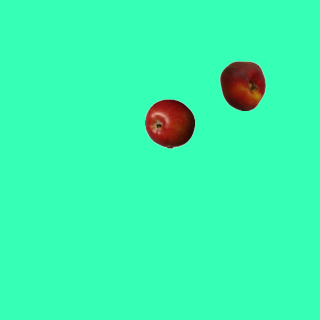Apple Braeburn: (144, 98, 194, 148)
Nectarine Flat: (217, 60, 267, 110)
